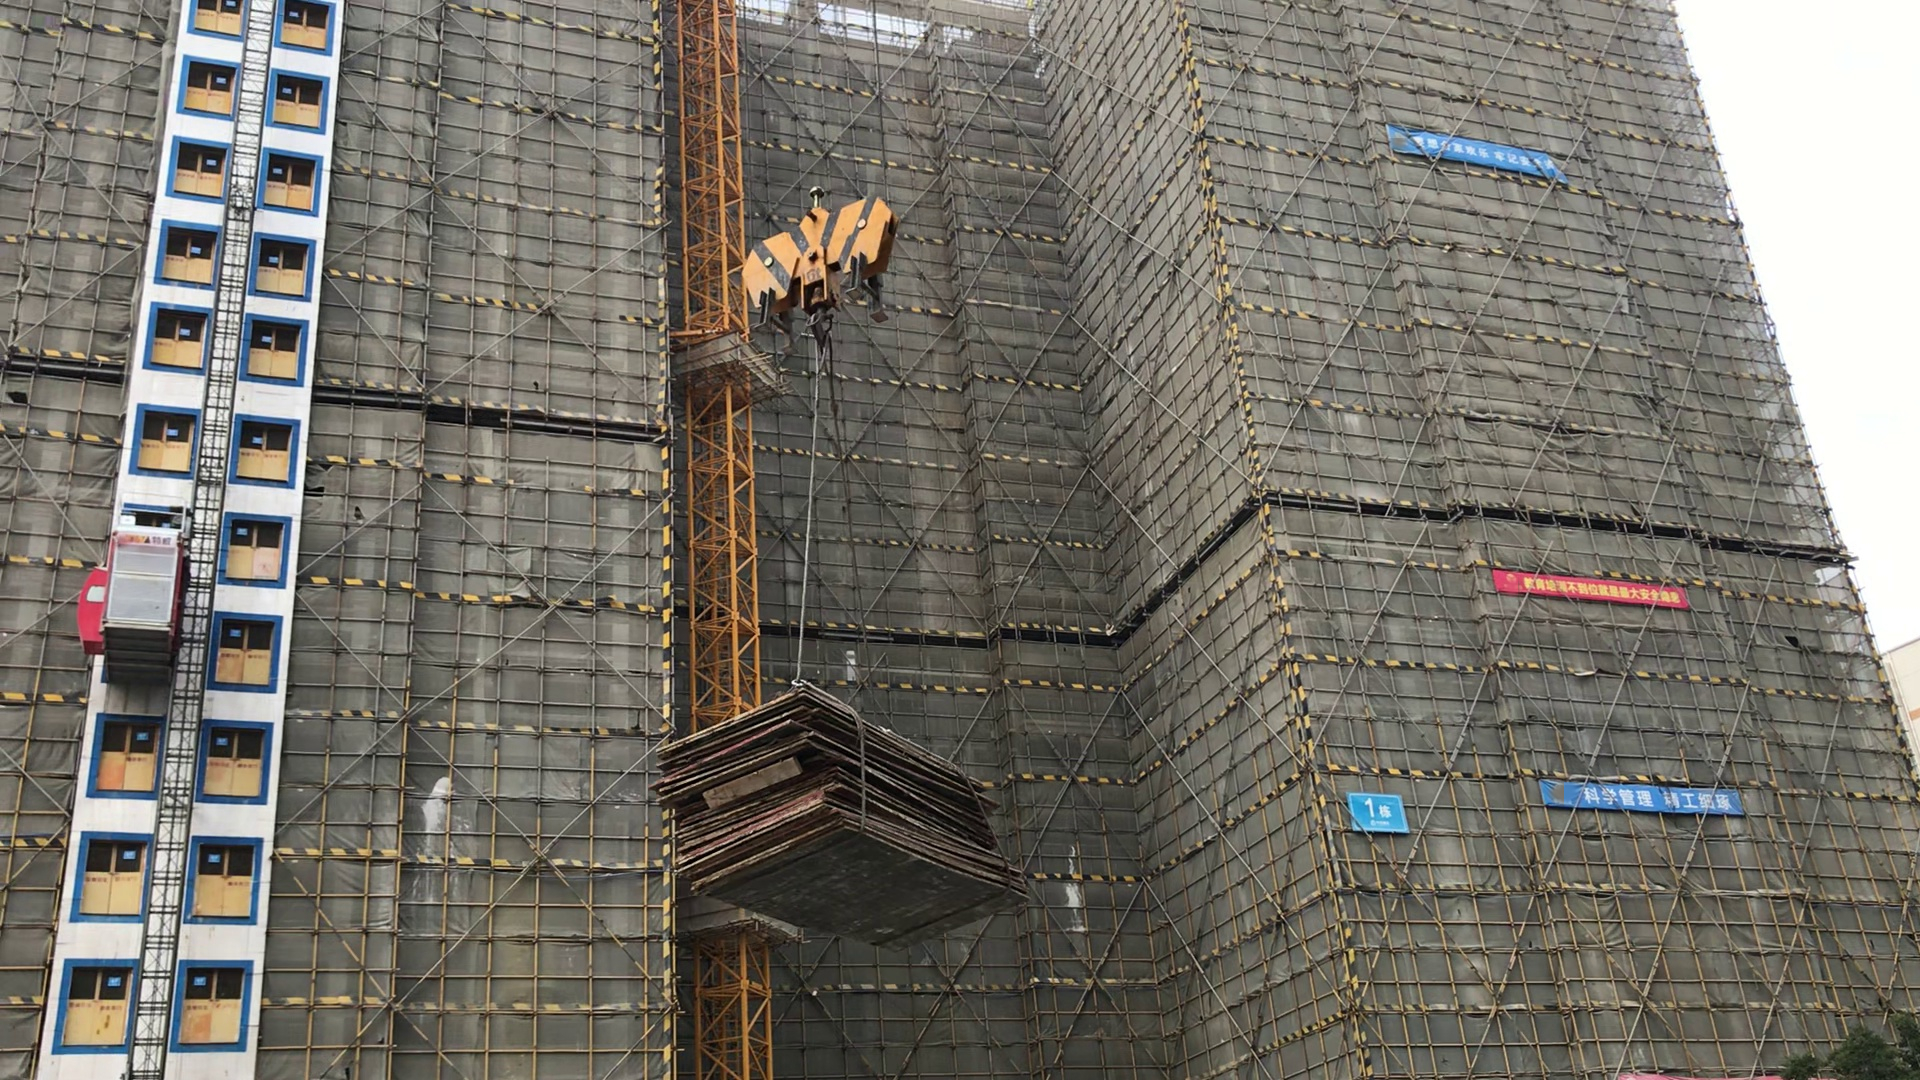board: (651, 686, 1031, 963)
hook: (742, 193, 897, 345)
slogan: (1387, 121, 1564, 177), (1491, 564, 1687, 611), (1542, 774, 1745, 814)
